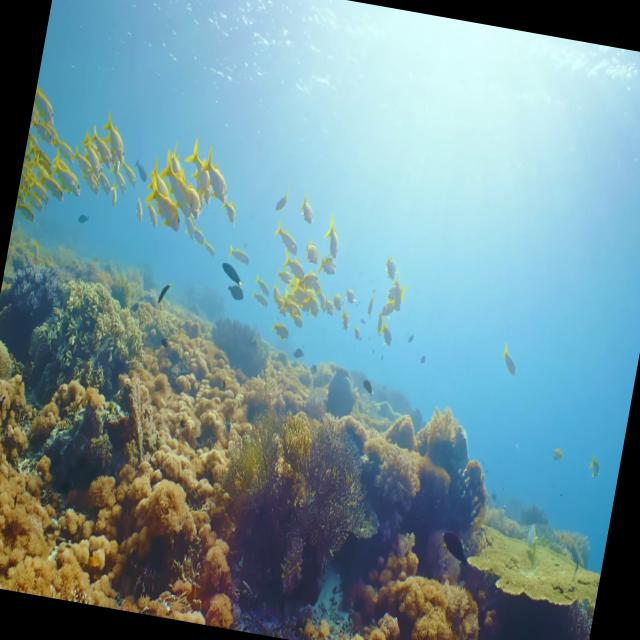fish: (154, 152, 202, 223), (136, 173, 188, 236), (182, 140, 224, 213), (200, 149, 238, 209), (62, 146, 105, 194), (42, 150, 82, 197), (98, 108, 132, 163), (30, 76, 61, 126), (319, 212, 349, 262), (272, 216, 307, 254), (87, 124, 115, 168), (30, 167, 64, 200), (314, 248, 342, 287), (78, 130, 104, 170), (294, 195, 318, 237), (275, 250, 307, 280), (497, 346, 522, 382), (300, 244, 327, 273), (224, 242, 256, 266), (586, 448, 606, 482)
